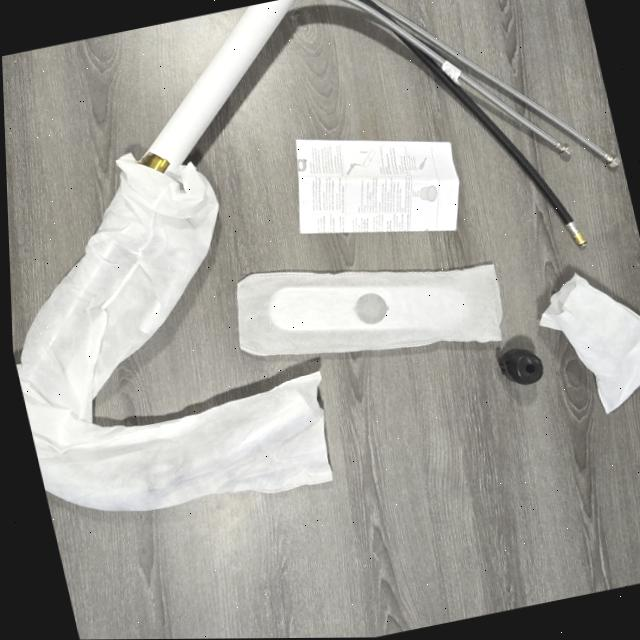1c: (16, 0, 332, 512), (335, 0, 620, 246)
2c: (540, 274, 640, 413)
4c: (237, 264, 503, 356)
5: (498, 349, 543, 385)
8: (296, 139, 459, 234)
